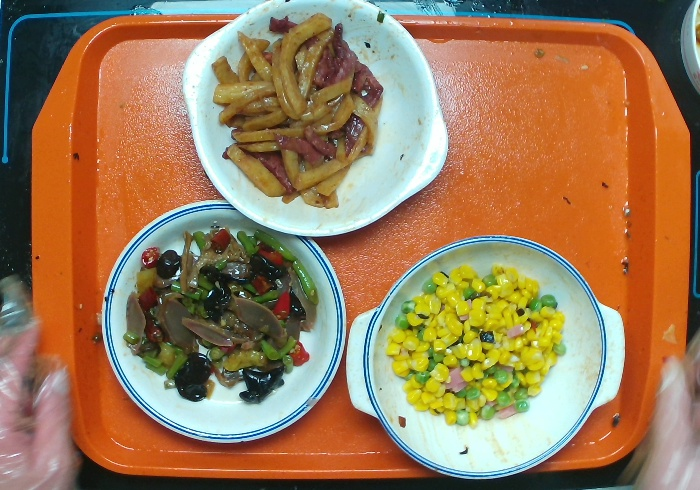HZYJPL-Dai_Er_Bai_Yuan_Wan: (174, 1, 456, 245)
HZYJPL-Lan_Bian_Dai_Er_Wan: (341, 231, 629, 484)
HZYJPL-Lan_Bian_Yuan_Die: (94, 195, 352, 452)
